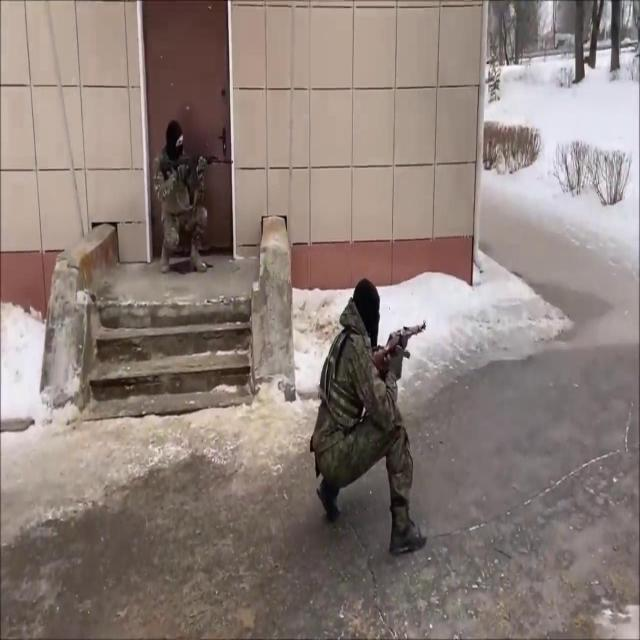gun: (312, 279, 428, 555), (153, 120, 234, 274), (372, 318, 426, 377), (160, 154, 233, 186), (391, 344, 411, 369)
